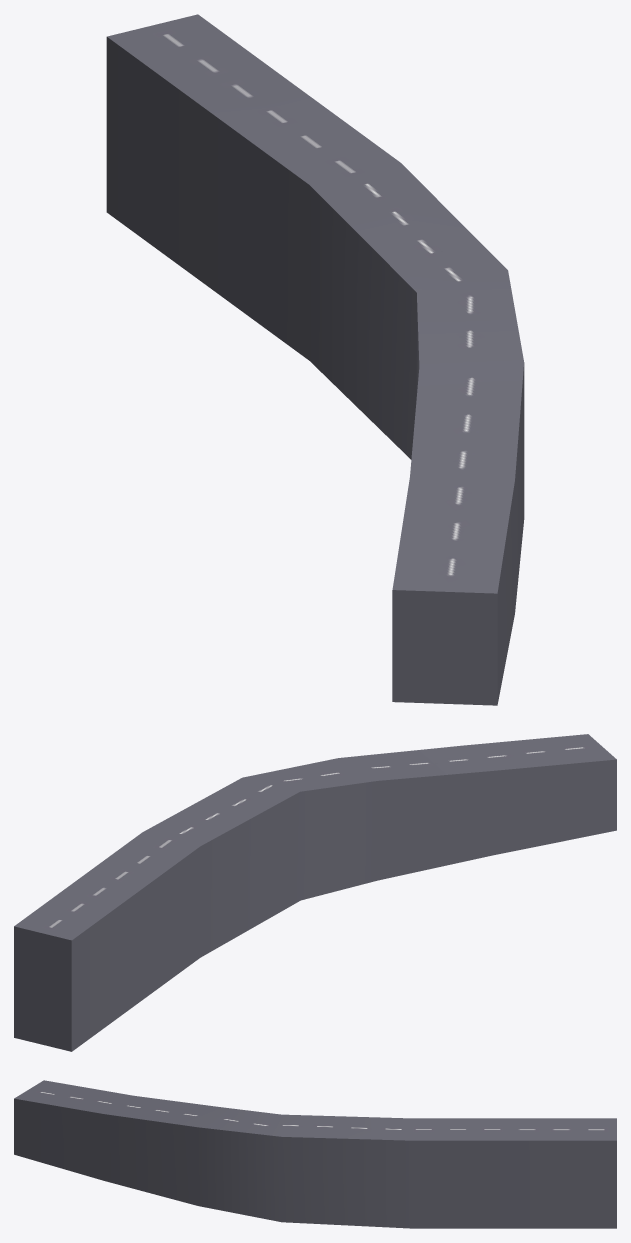
The model's file is road_4.gltf.
3 views of the same model, one above another, from view 1: azimuth 30°, elevation 25°; view 2: azimuth 150°, elevation 25°; view 3: azimuth 270°, elevation 25° (orthographic). The views are drawn at different scales.
Parts seen in each view (by area): view 1: road; view 2: road; view 3: road.
Part boxes in pixels (bbox=[...]): road: bbox=[106, 14, 524, 705]; road: bbox=[14, 734, 616, 1051]; road: bbox=[14, 1080, 616, 1228].
Bounding box in the file's own units: 5.49 × 2.44 × 15.15.
Materials: 1 (1 with a texture image).
